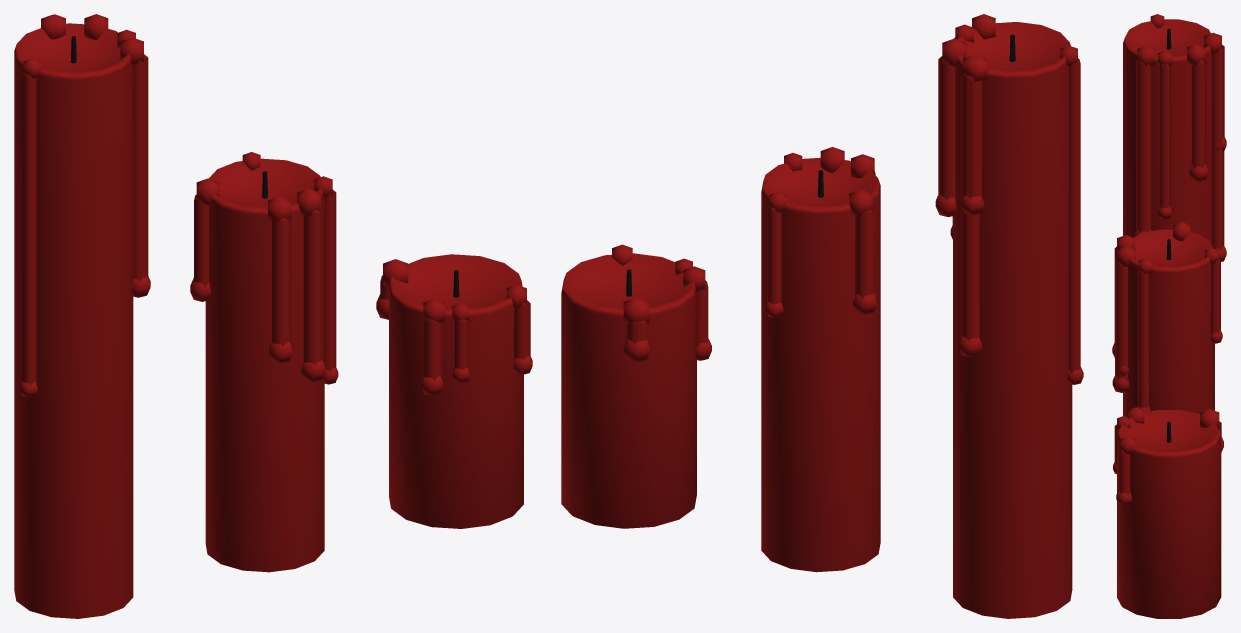
File: redroom-candle.glb
The picture shows the model from 3 angles, left to right: view 1: azimuth 30°, elevation 25°; view 2: azimuth 150°, elevation 25°; view 3: azimuth 270°, elevation 25°; orthographic projection. The views are drawn at different scales.
Parts seen in each view (by area): view 1: Candle_A_Wax, Candle_B_Wax, Candle_C_Wax; view 2: Candle_A_Wax, Candle_B_Wax, Candle_C_Wax; view 3: Candle_A_Wax, Candle_C_Wax, Candle_B_Wax.
Boxes of the visible parts, left/top/right/bottom form: Candle_A_Wax: left=14, top=14, right=150, bottom=618; Candle_B_Wax: left=190, top=152, right=338, bottom=572; Candle_C_Wax: left=376, top=254, right=532, bottom=528; Candle_A_Wax: left=935, top=14, right=1083, bottom=618; Candle_B_Wax: left=761, top=147, right=880, bottom=572; Candle_C_Wax: left=561, top=244, right=711, bottom=528; Candle_A_Wax: left=1123, top=14, right=1226, bottom=261; Candle_C_Wax: left=1113, top=407, right=1223, bottom=618; Candle_B_Wax: left=1112, top=222, right=1222, bottom=417.
Size of the model in its own units: 0.289 by 0.306 by 0.0745.
